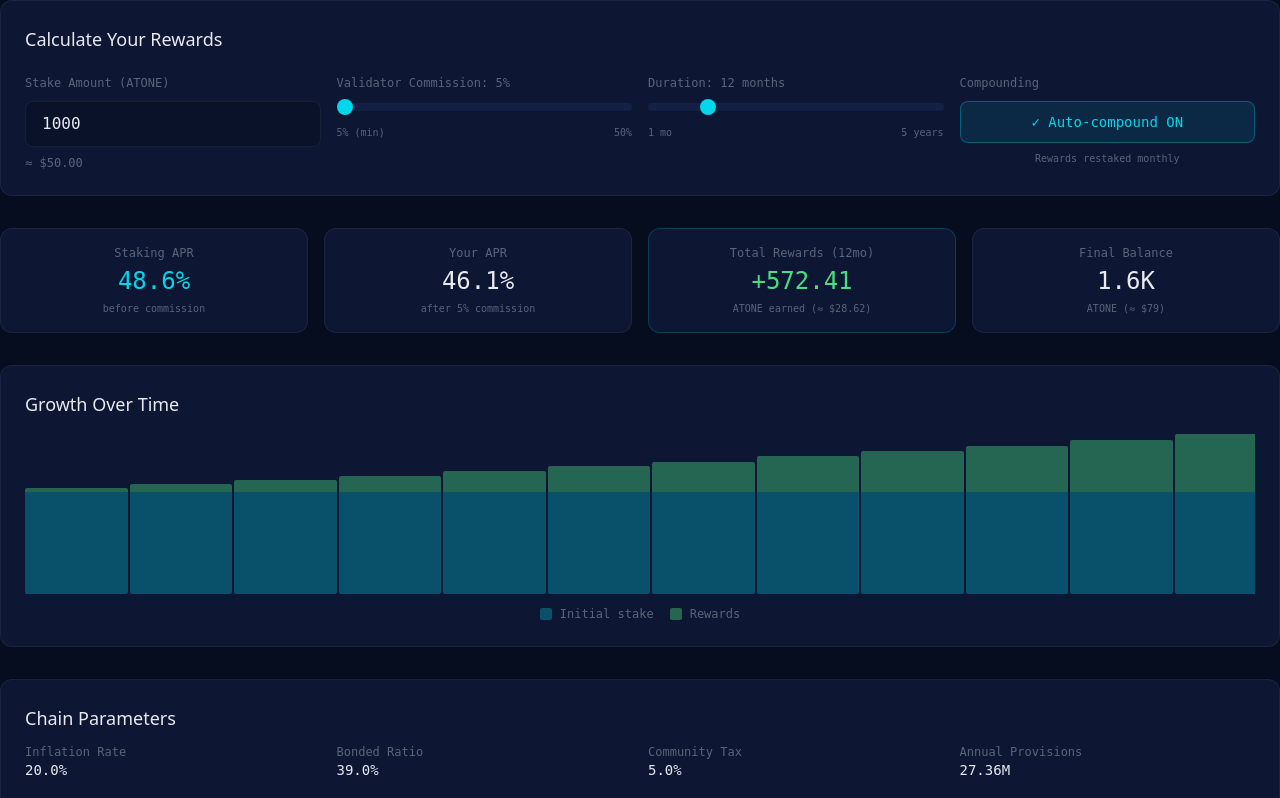
Test: StakingCalculator › toggles compounding on/off
Click the button "✓ Auto-compound ON".
click(1107, 122)  # box [960, 101, 1255, 143]
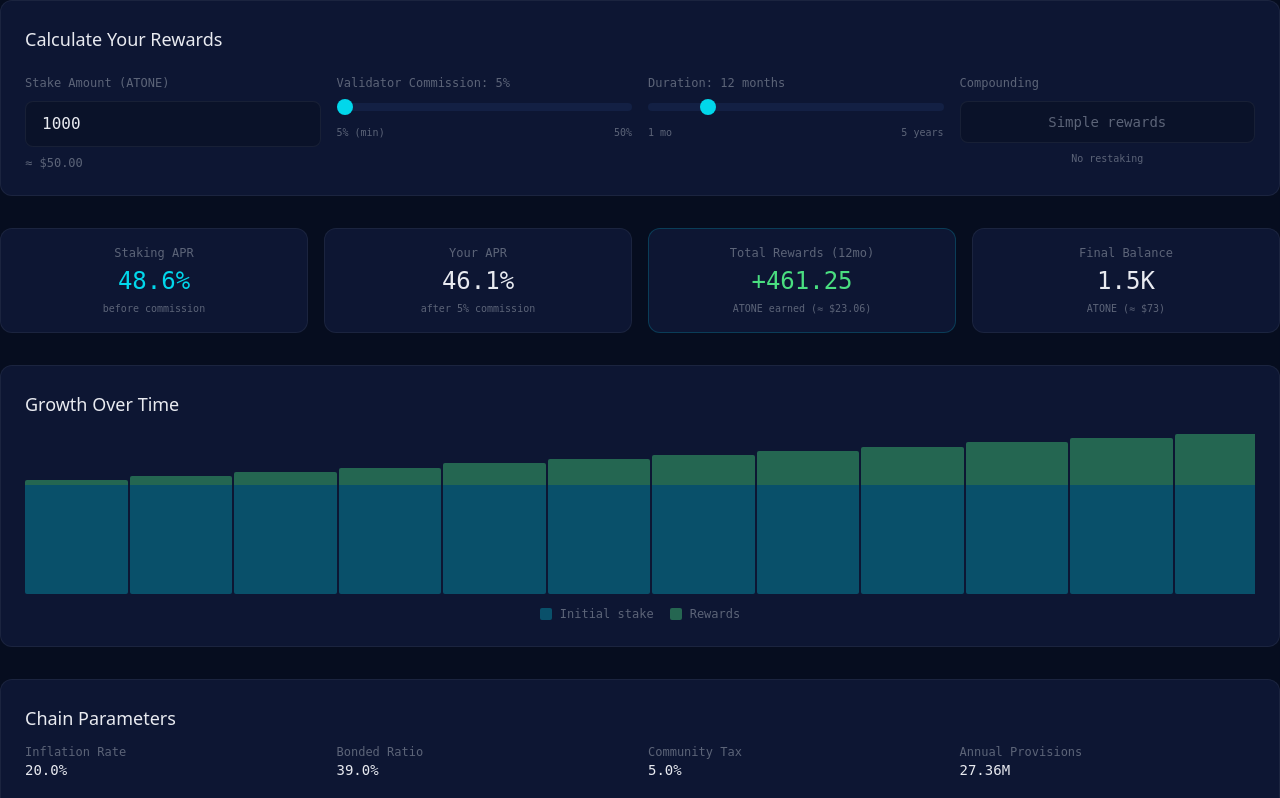
Expected: the button "Simple rewards" is shown, [960, 101, 1255, 143]
